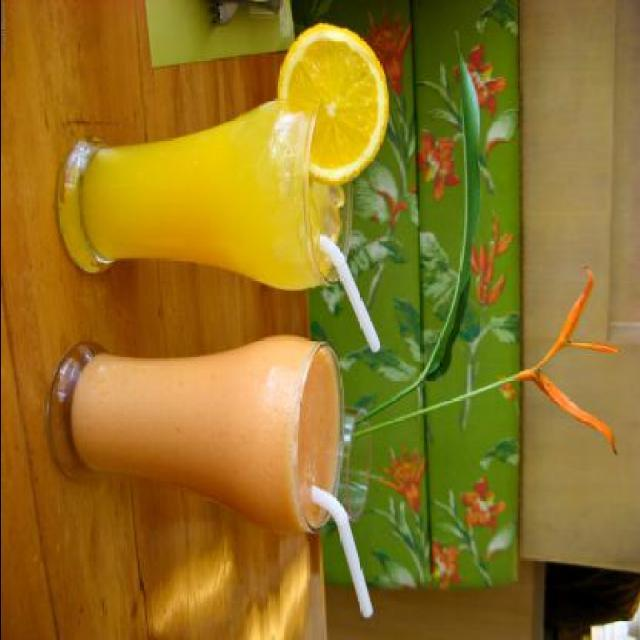Lemon: (275, 19, 387, 188)
